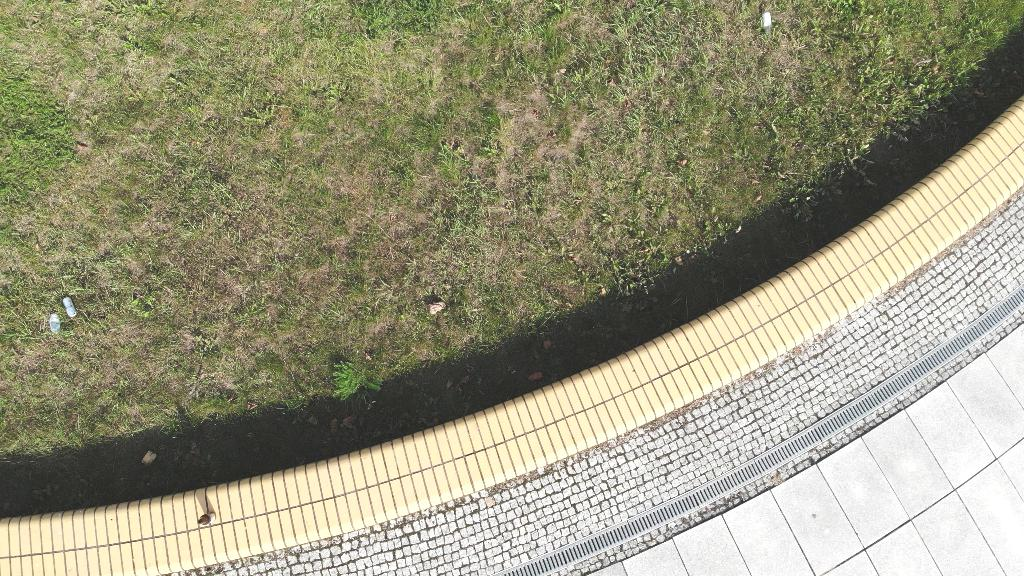garbage: (61, 298, 78, 317), (760, 12, 773, 36), (49, 314, 60, 334)
